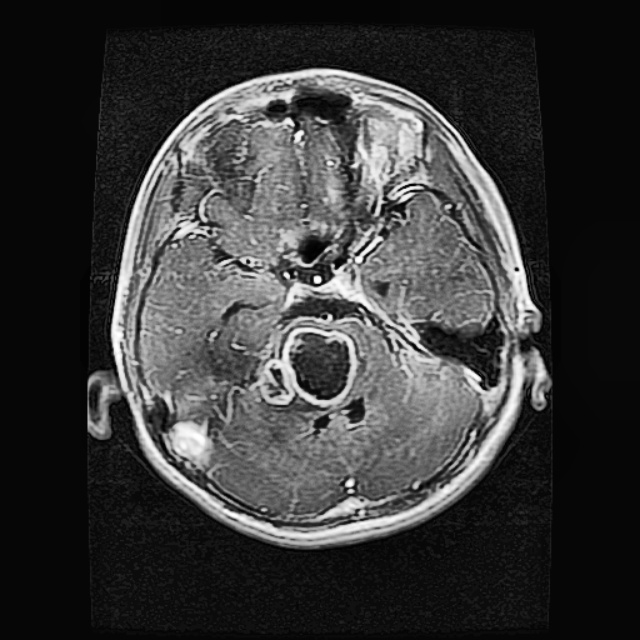Glioma: (258, 324, 358, 408)
